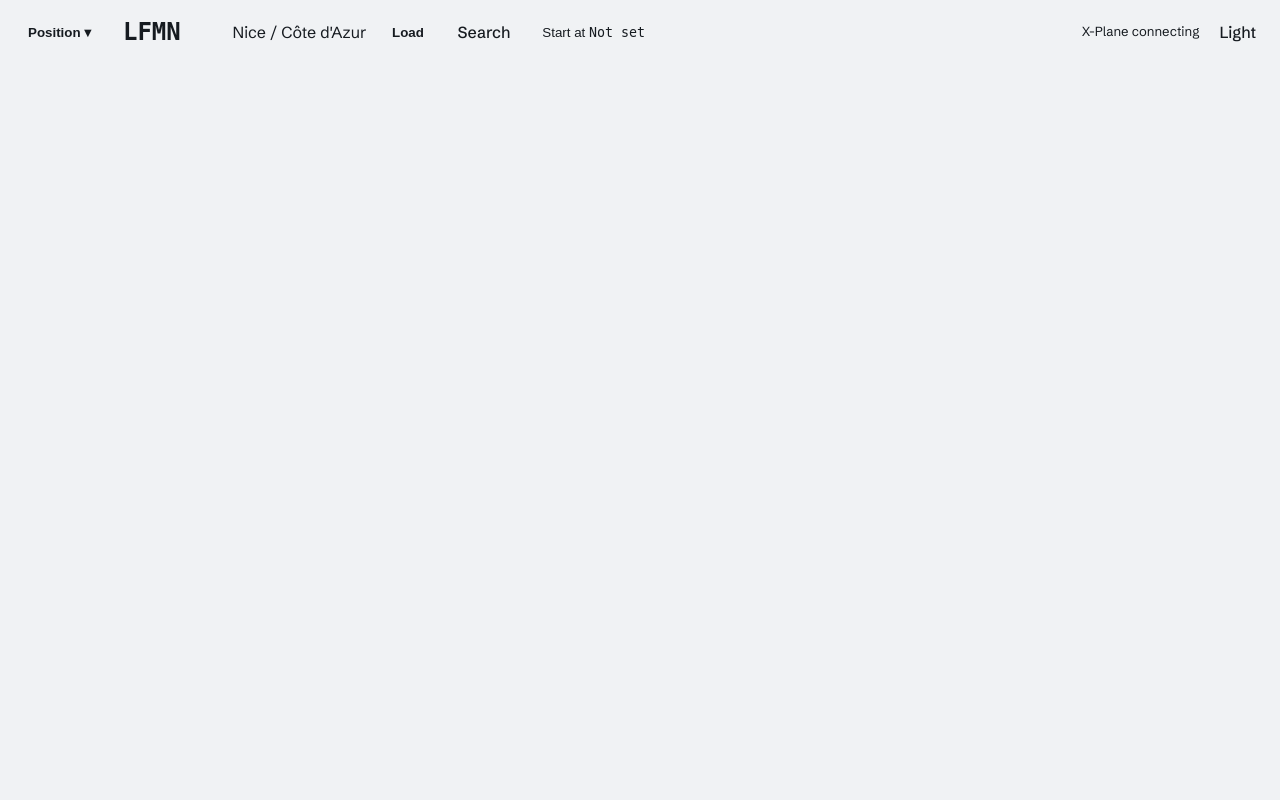
Test: StartAtPopover › renders every stand even when navdata repeats a parking name
The width and height of the screenshot is (1280, 800).
Click the button "Start at Not set" at coordinates (594, 32), box [530,10,657,54]
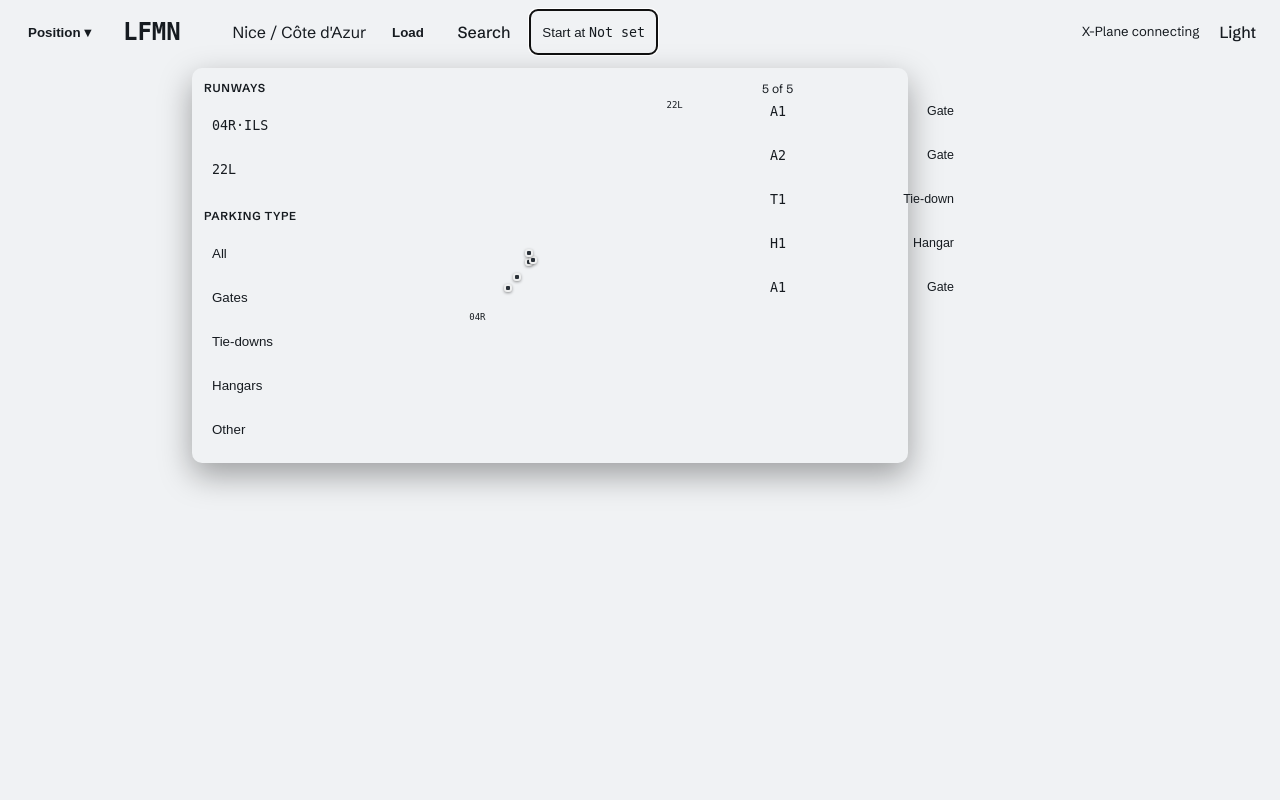
Check: the text "5 of 5" is shown, box [762,81,793,96]
Check: the number of buttons named "Stand A1" is 2, box [507,240,551,284]; [507,232,551,276]
